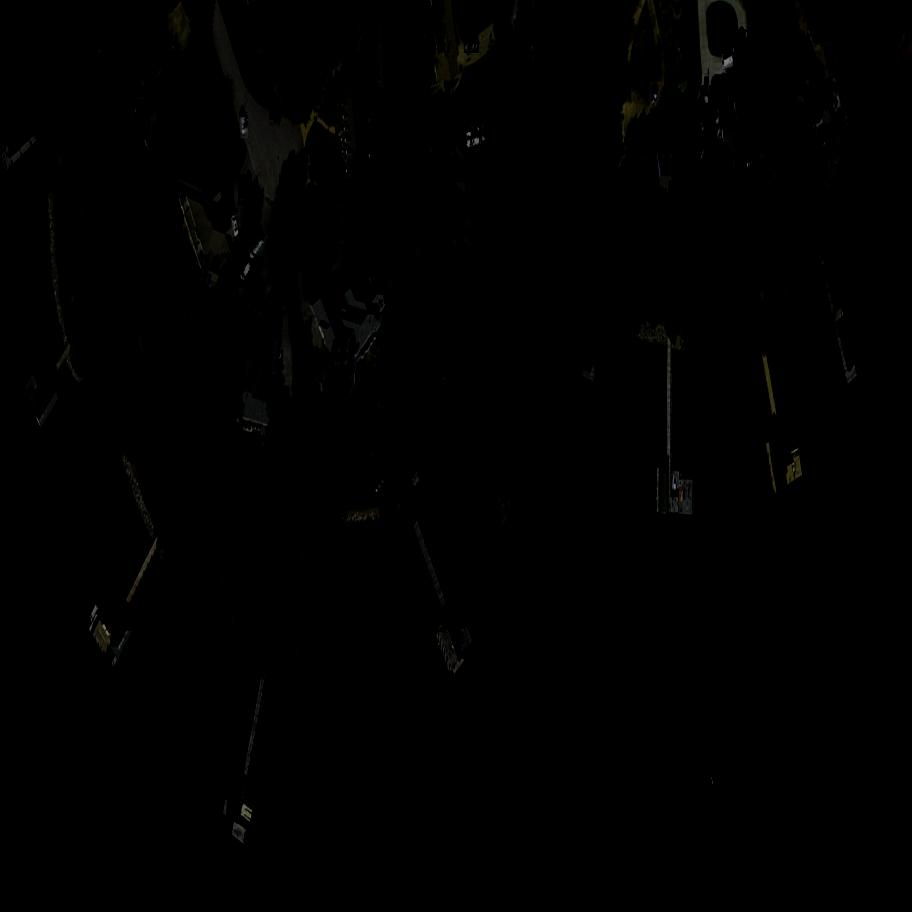small-vehicle: (247, 233, 270, 264), (238, 260, 259, 288), (309, 348, 330, 376), (237, 174, 254, 205), (700, 85, 715, 113), (165, 38, 183, 60), (733, 29, 748, 55), (650, 83, 662, 109), (231, 212, 242, 238), (465, 135, 483, 150), (240, 113, 248, 138), (722, 54, 734, 70), (464, 42, 479, 53), (269, 113, 279, 126)
